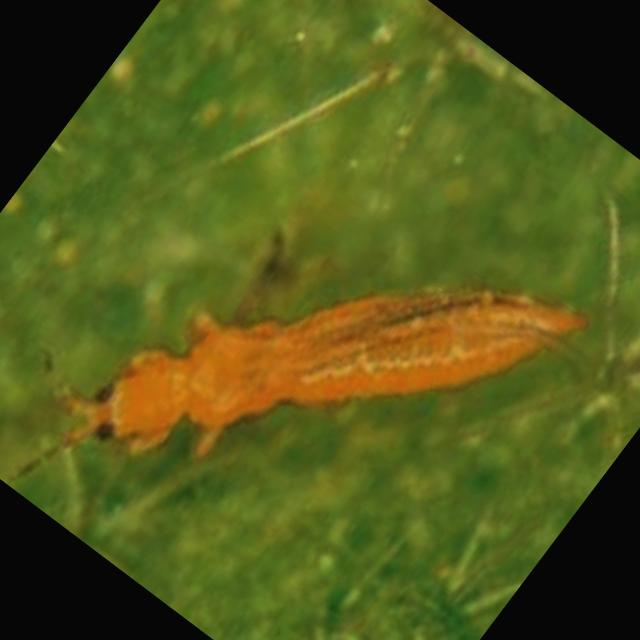melon thrips: (12, 51, 637, 640)
